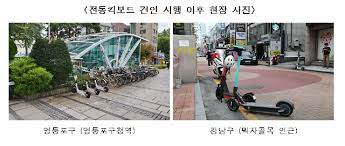kick_wheel: (279, 100, 294, 116), (226, 99, 240, 112), (214, 86, 223, 99)
